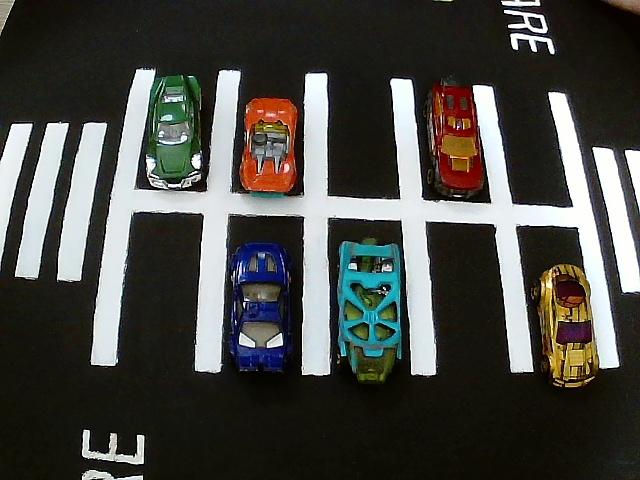Carro: (336, 241, 407, 387), (232, 242, 290, 375), (539, 265, 598, 391), (144, 75, 206, 191), (431, 79, 488, 202), (237, 98, 303, 195)
